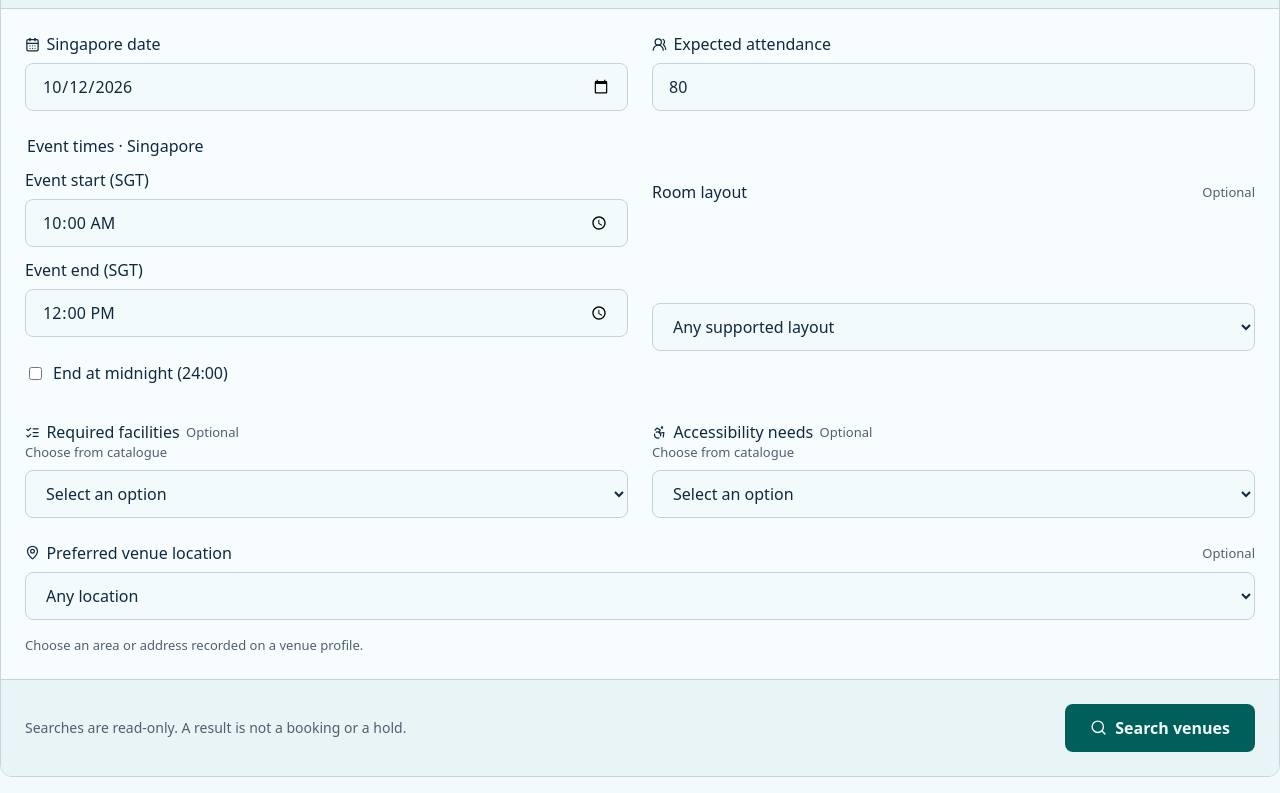
[TC-SPL-129-02] searches quarter-hour Singapore times and displays both intervals
Expected: the time field labelled "Event start (SGT)" holds "10:00", 25,199 -> 628,247
Click the button "Search venues".
click(1160, 728)  # box 1065,704 -> 1255,752
(page scrolled)
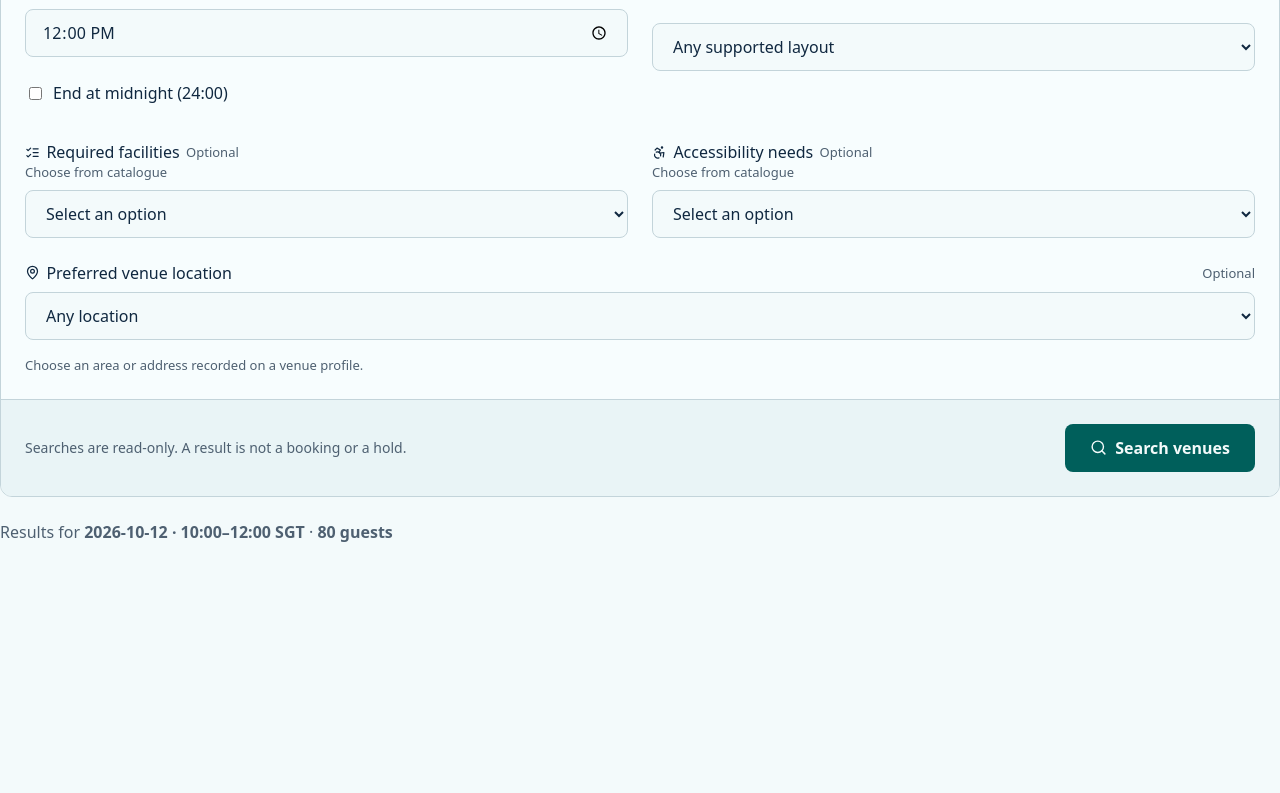
Expected: the text "2026-10-12 · 10:00–12:00 SGT" is shown, 84,521 -> 305,543
